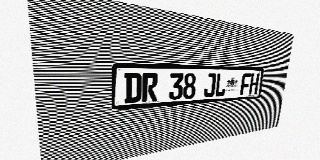3: (169, 73, 184, 100)
8: (182, 73, 197, 99)
D: (124, 73, 142, 103)
F: (240, 73, 251, 95)
H: (249, 73, 260, 94)
J: (203, 73, 216, 98)
L: (214, 73, 227, 97)
R: (142, 73, 158, 102)
